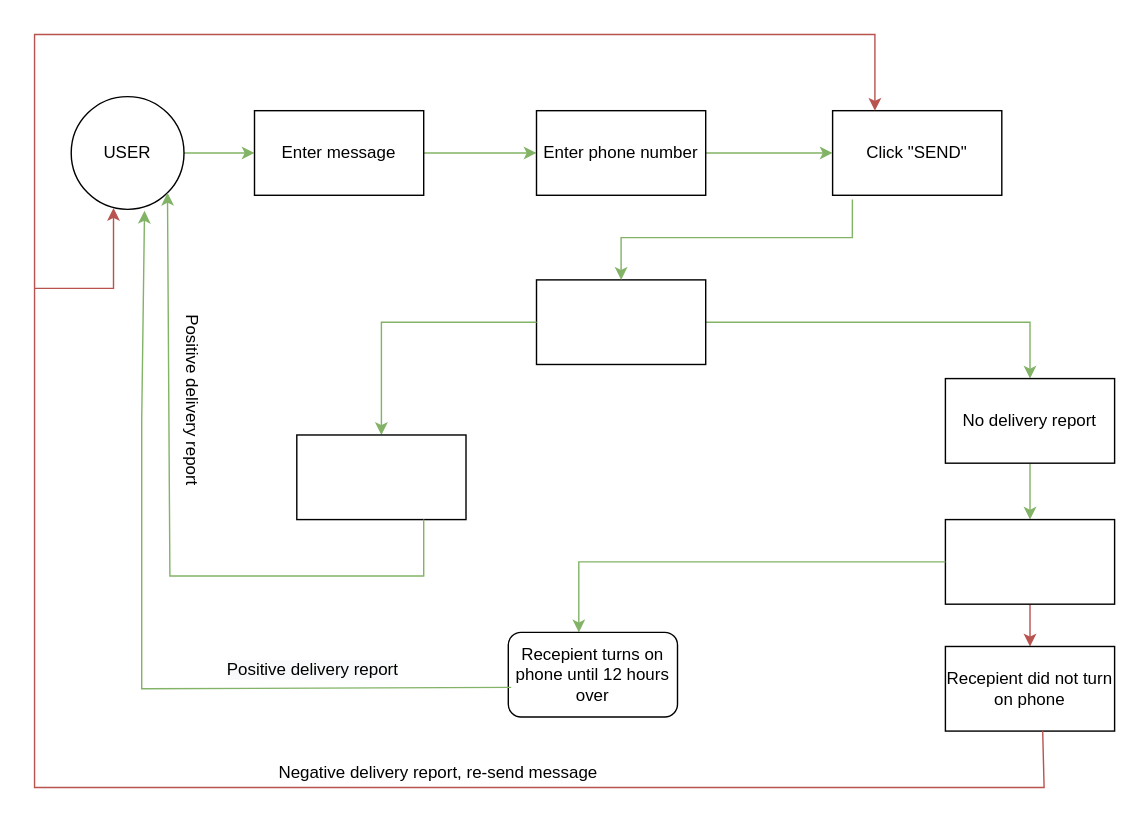
This 1139x823 diagram has some shape labels left out. The shapes that lost their labels are listed below. From the top down, each one's centre as x and y in pixels, then its label:
At point 620,321: "Enable delivery report".
At point 380,477: "The message has been delivered".
At point 1029,561: "Saving report on server for 12 hours".
